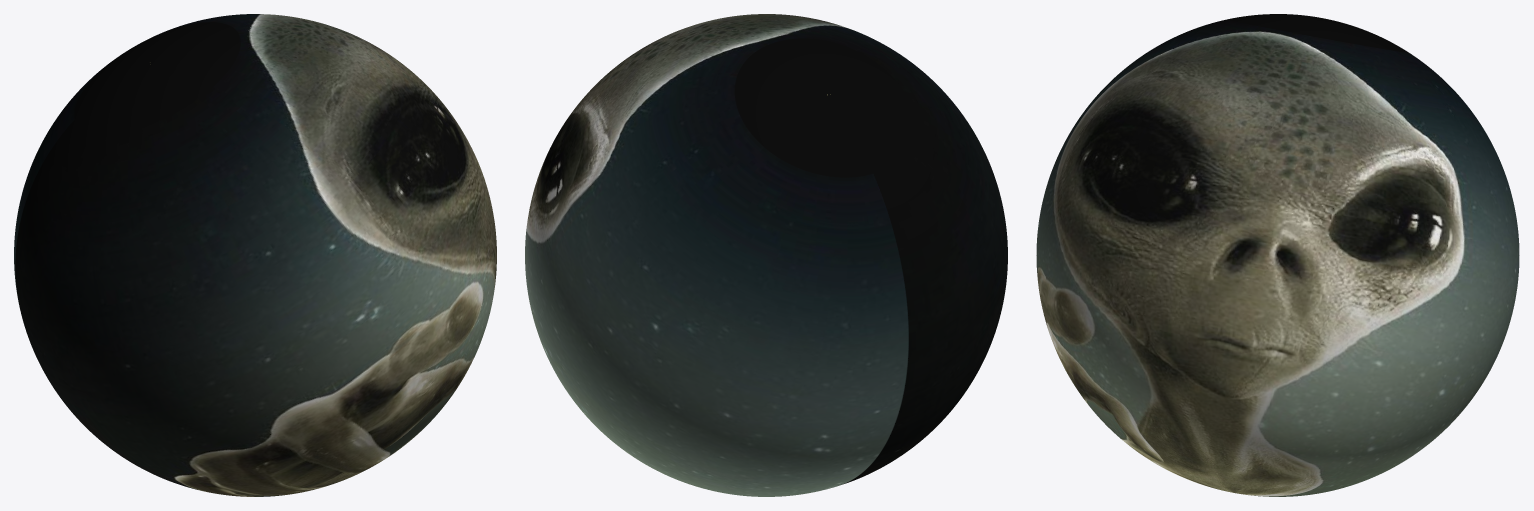
The model's file is sphereuv.glb.
3 renders of one model, left to right at view 1: azimuth 30°, elevation 25°; view 2: azimuth 150°, elevation 25°; view 3: azimuth 270°, elevation 25°, orthographic.
Visible parts, largest first — view 1: Object_2; view 2: Object_2; view 3: Object_2.
Part boxes in pixels (x1,y1,x2,y2): Object_2: (14, 14, 496, 496); Object_2: (525, 14, 1007, 496); Object_2: (1036, 14, 1519, 496).
Bounding box in the file's own units: 20 × 20 × 20.
Materials: 1 (1 with a texture image).
